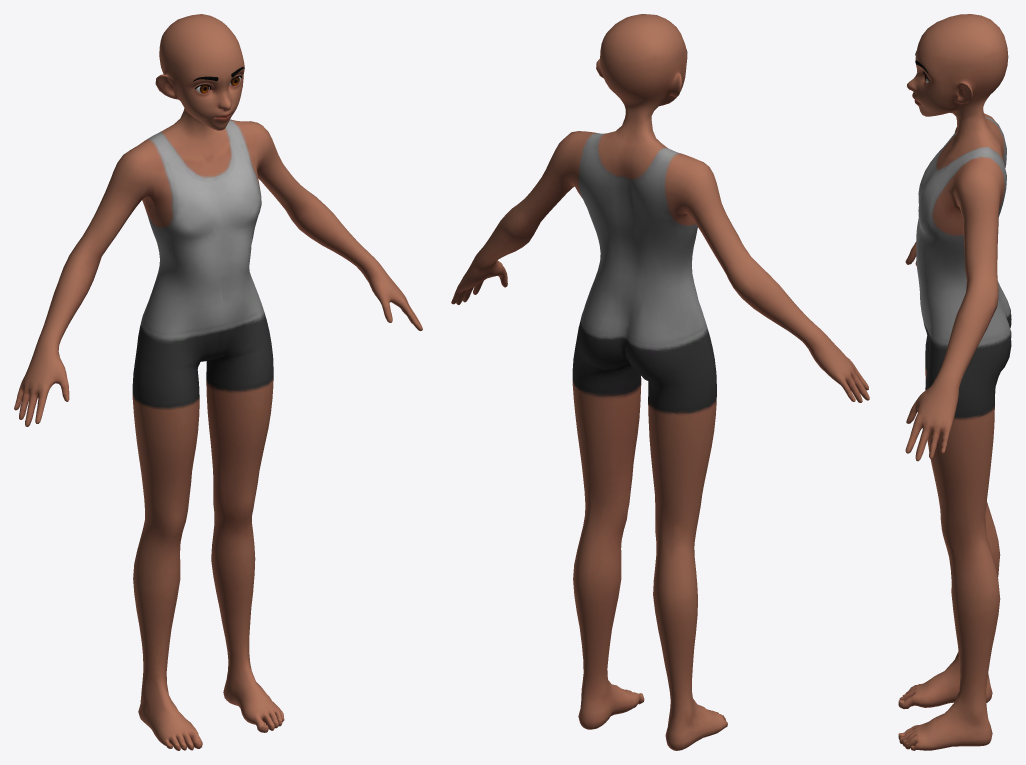
File: ProxyMesh.obj
3 renders of one model, left to right at view 1: azimuth 30°, elevation 25°; view 2: azimuth 150°, elevation 25°; view 3: azimuth 270°, elevation 25°, orthographic. The views are drawn at different scales.
Parts seen in each view (by area): view 1: ProxyMesh_0; view 2: ProxyMesh_0; view 3: ProxyMesh_0.
Part boxes in pixels (x1,y1,x2,y2): ProxyMesh_0: [14, 14, 422, 750]; ProxyMesh_0: [451, 14, 869, 750]; ProxyMesh_0: [898, 14, 1011, 750].
Size of the model in its own units: 1.06 by 1.78 by 0.2573.
Materials: 1 (1 with a texture image).
